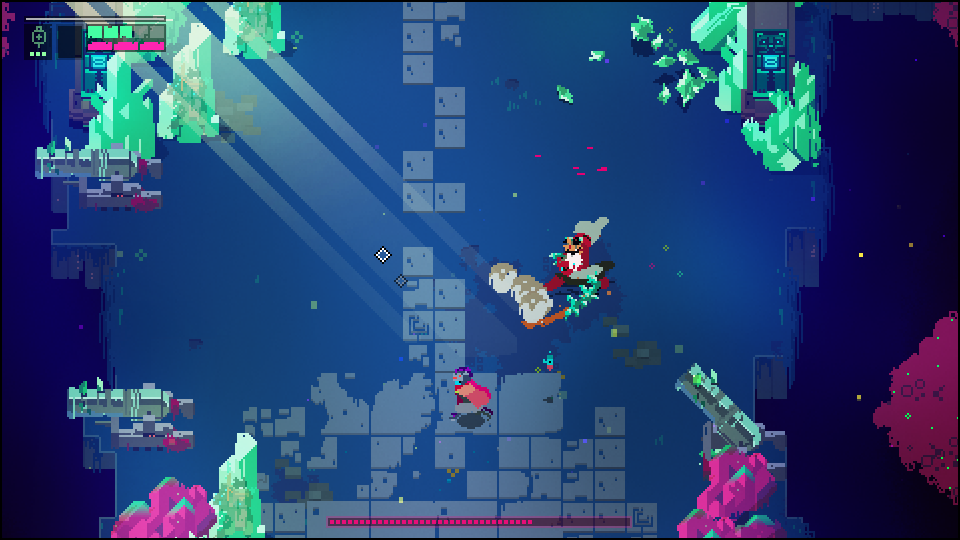hanged_man: (537, 214, 612, 321)
player: (450, 363, 498, 425)
